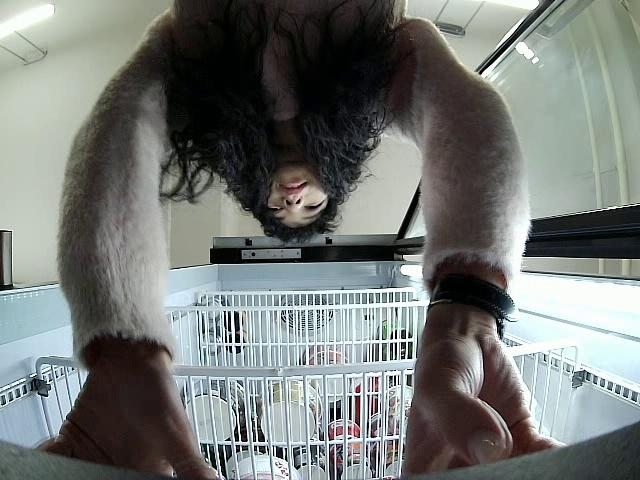00_hand: (396, 337, 571, 480), (38, 377, 225, 480)
